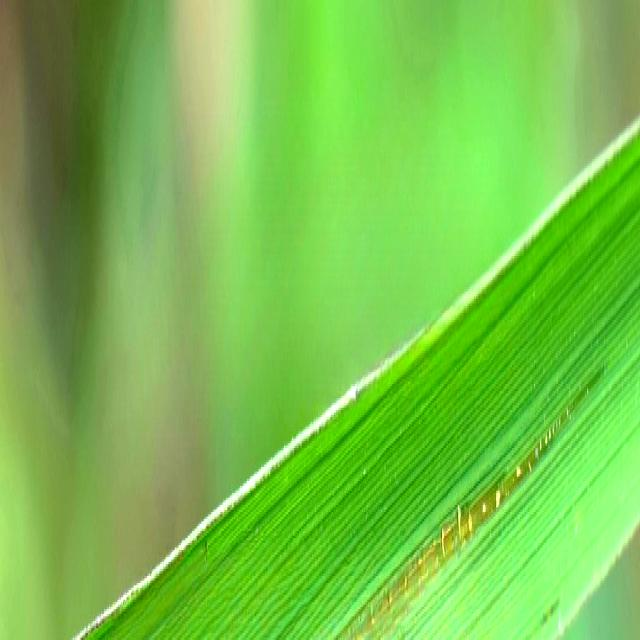BLS: (330, 363, 608, 640), (399, 608, 427, 640)
